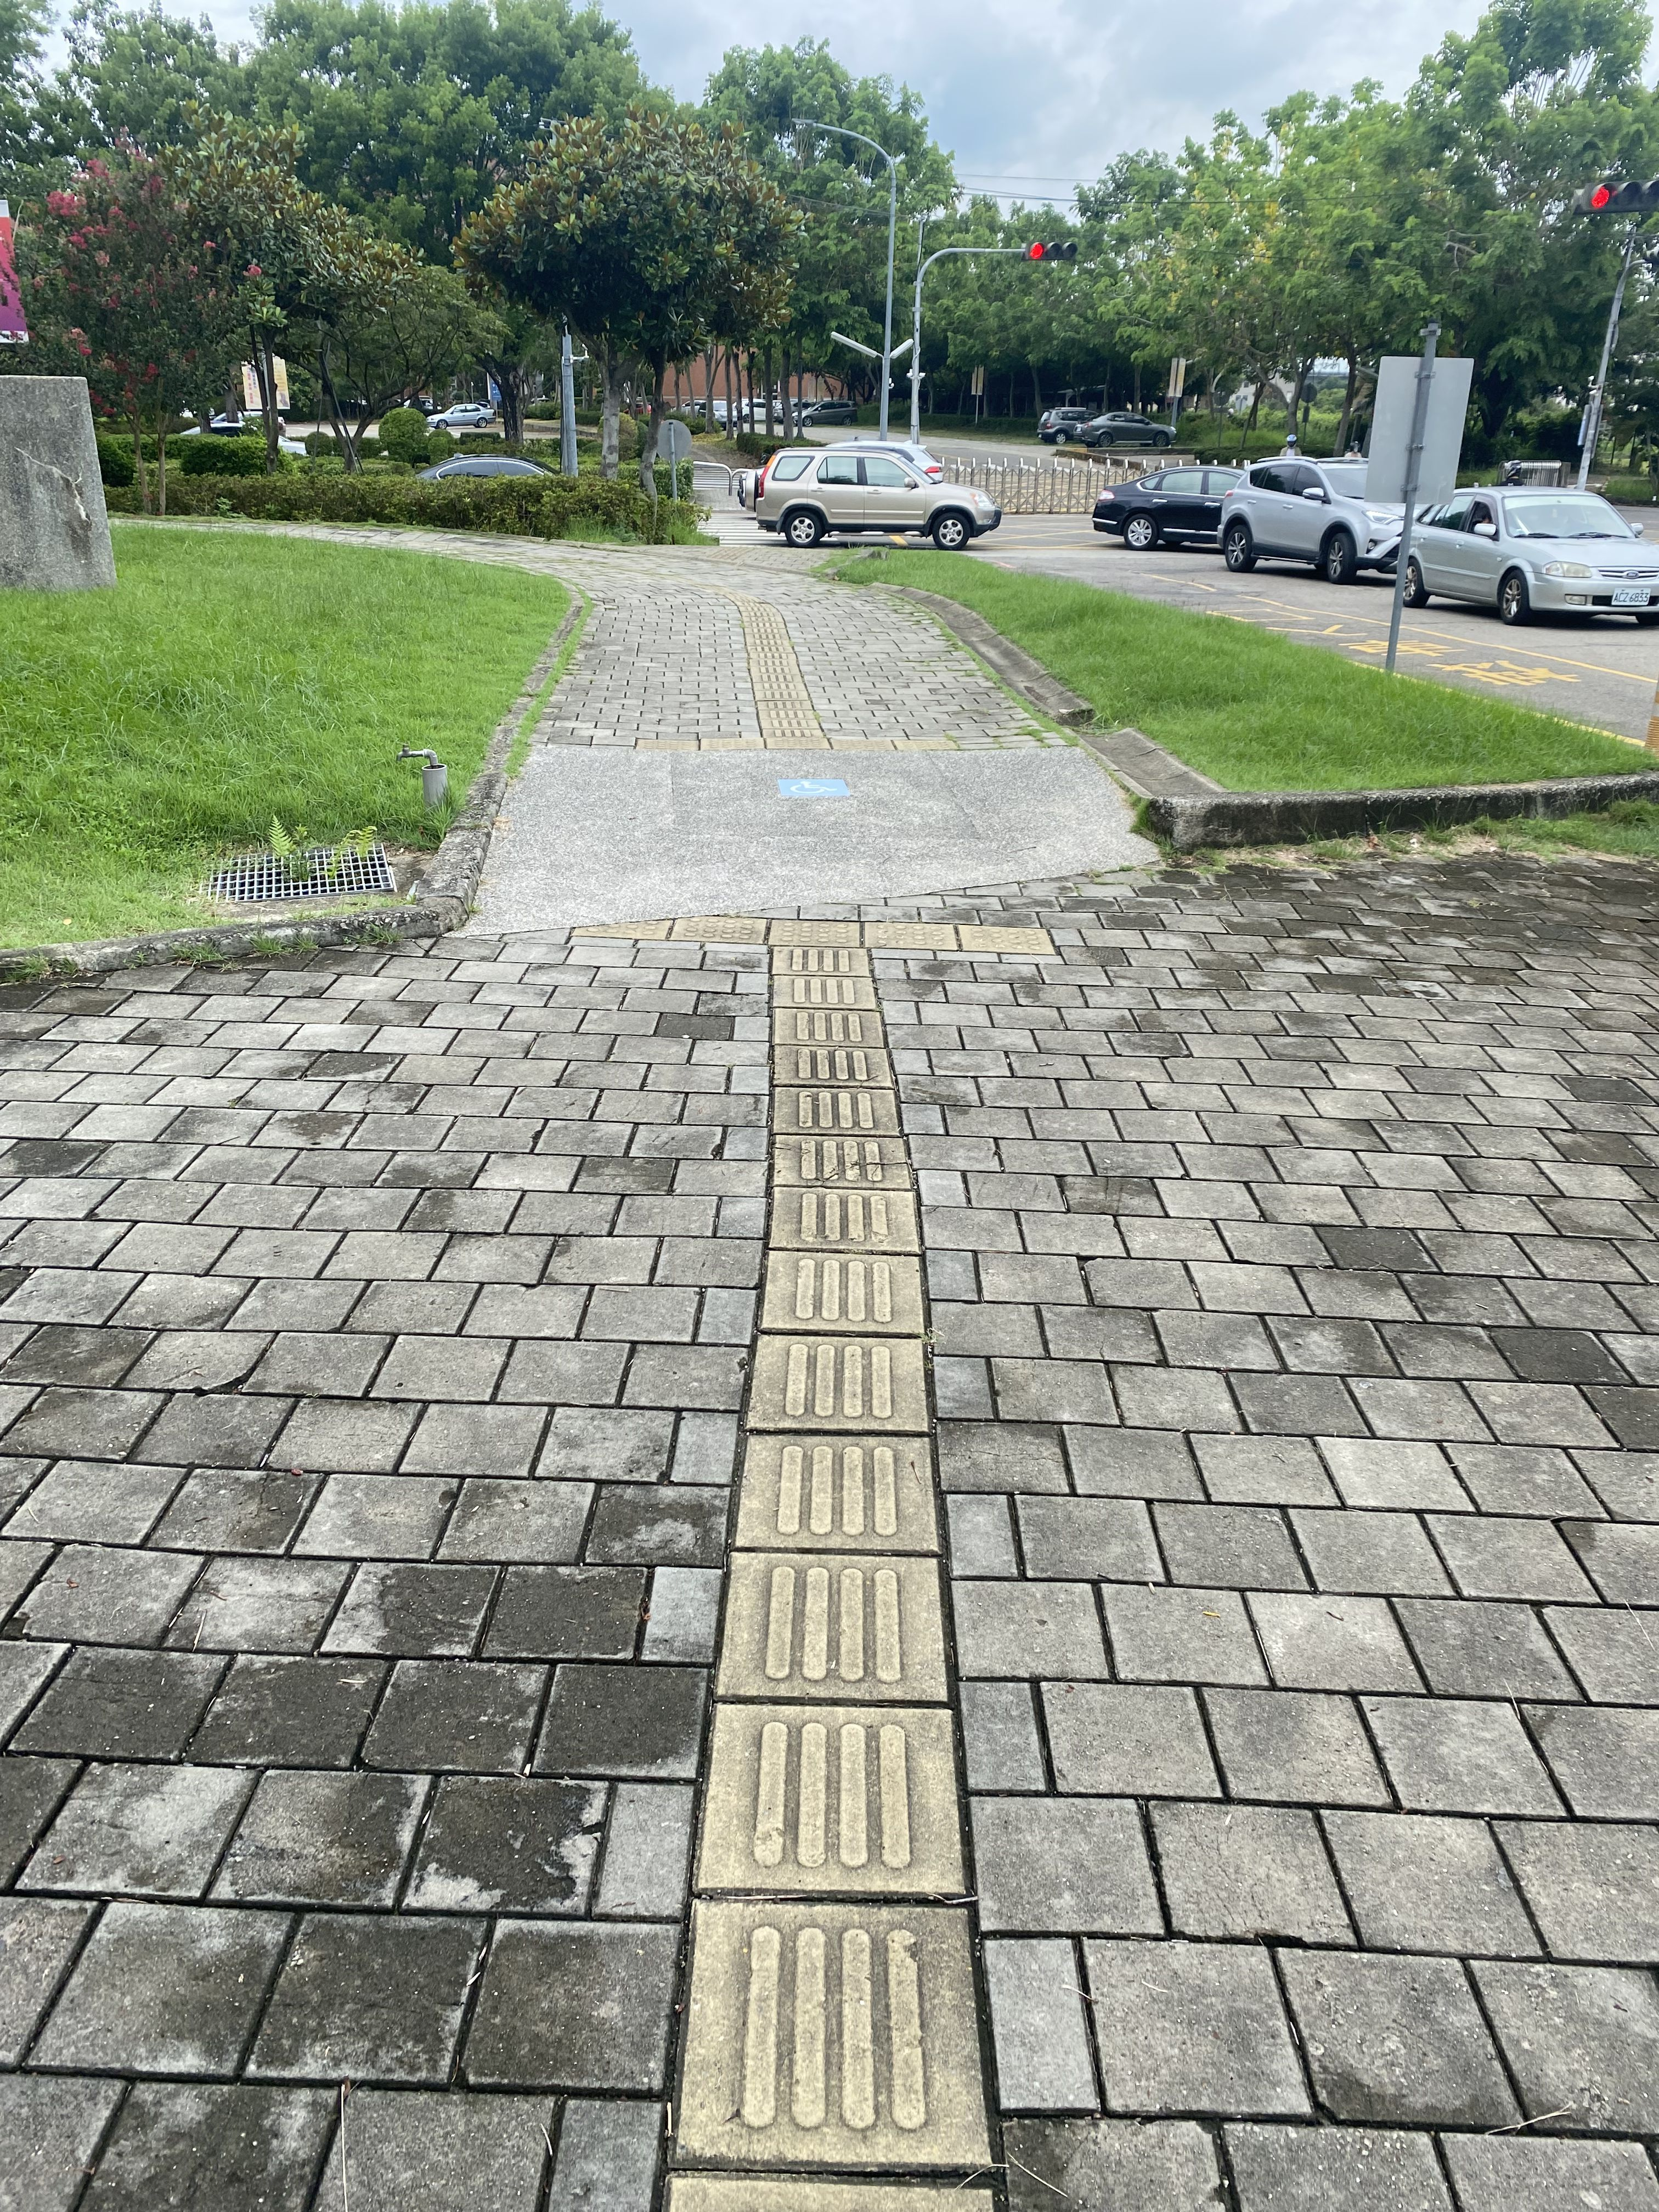0: (5, 920, 1659, 2212)
sidewalk: (347, 502, 1300, 1001)
